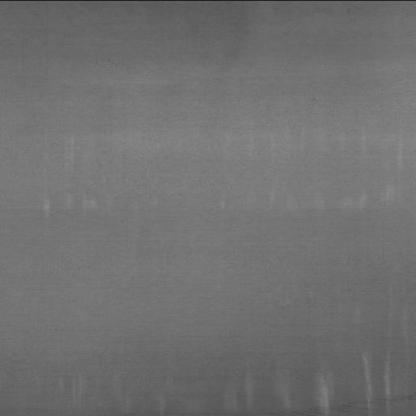waist_folding: (25, 124, 398, 409)
